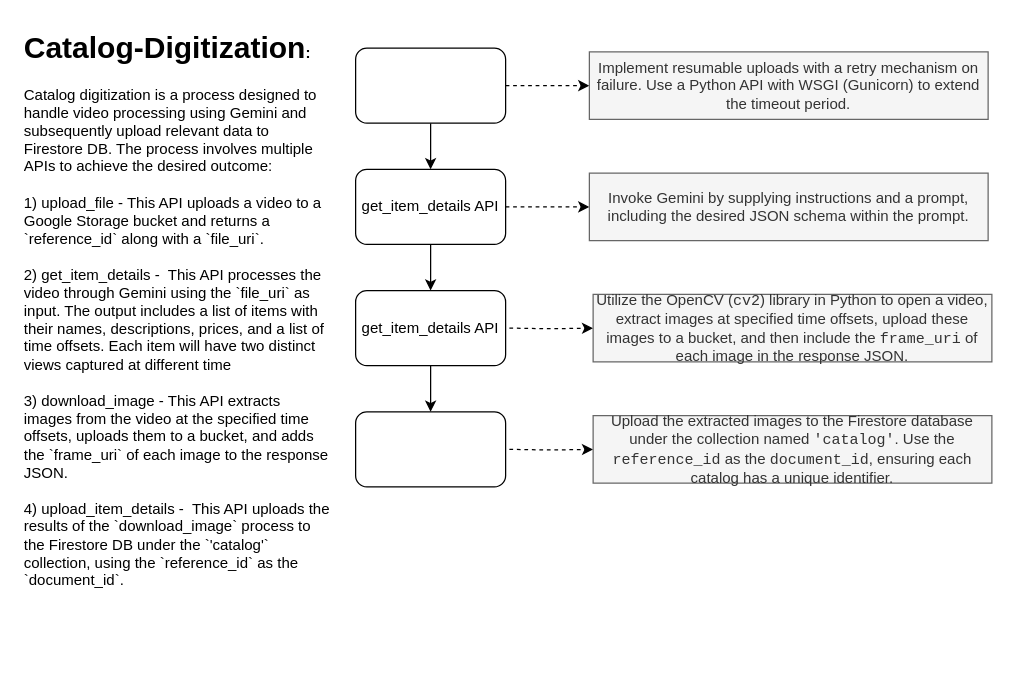
Image size: 1014x674. Some labels were removed from this diagram. The centre of each missing label's shape, as x and y in pixels:
"upload file API" goes at point 430,85.
"upload_item_details API" goes at point 430,449.
